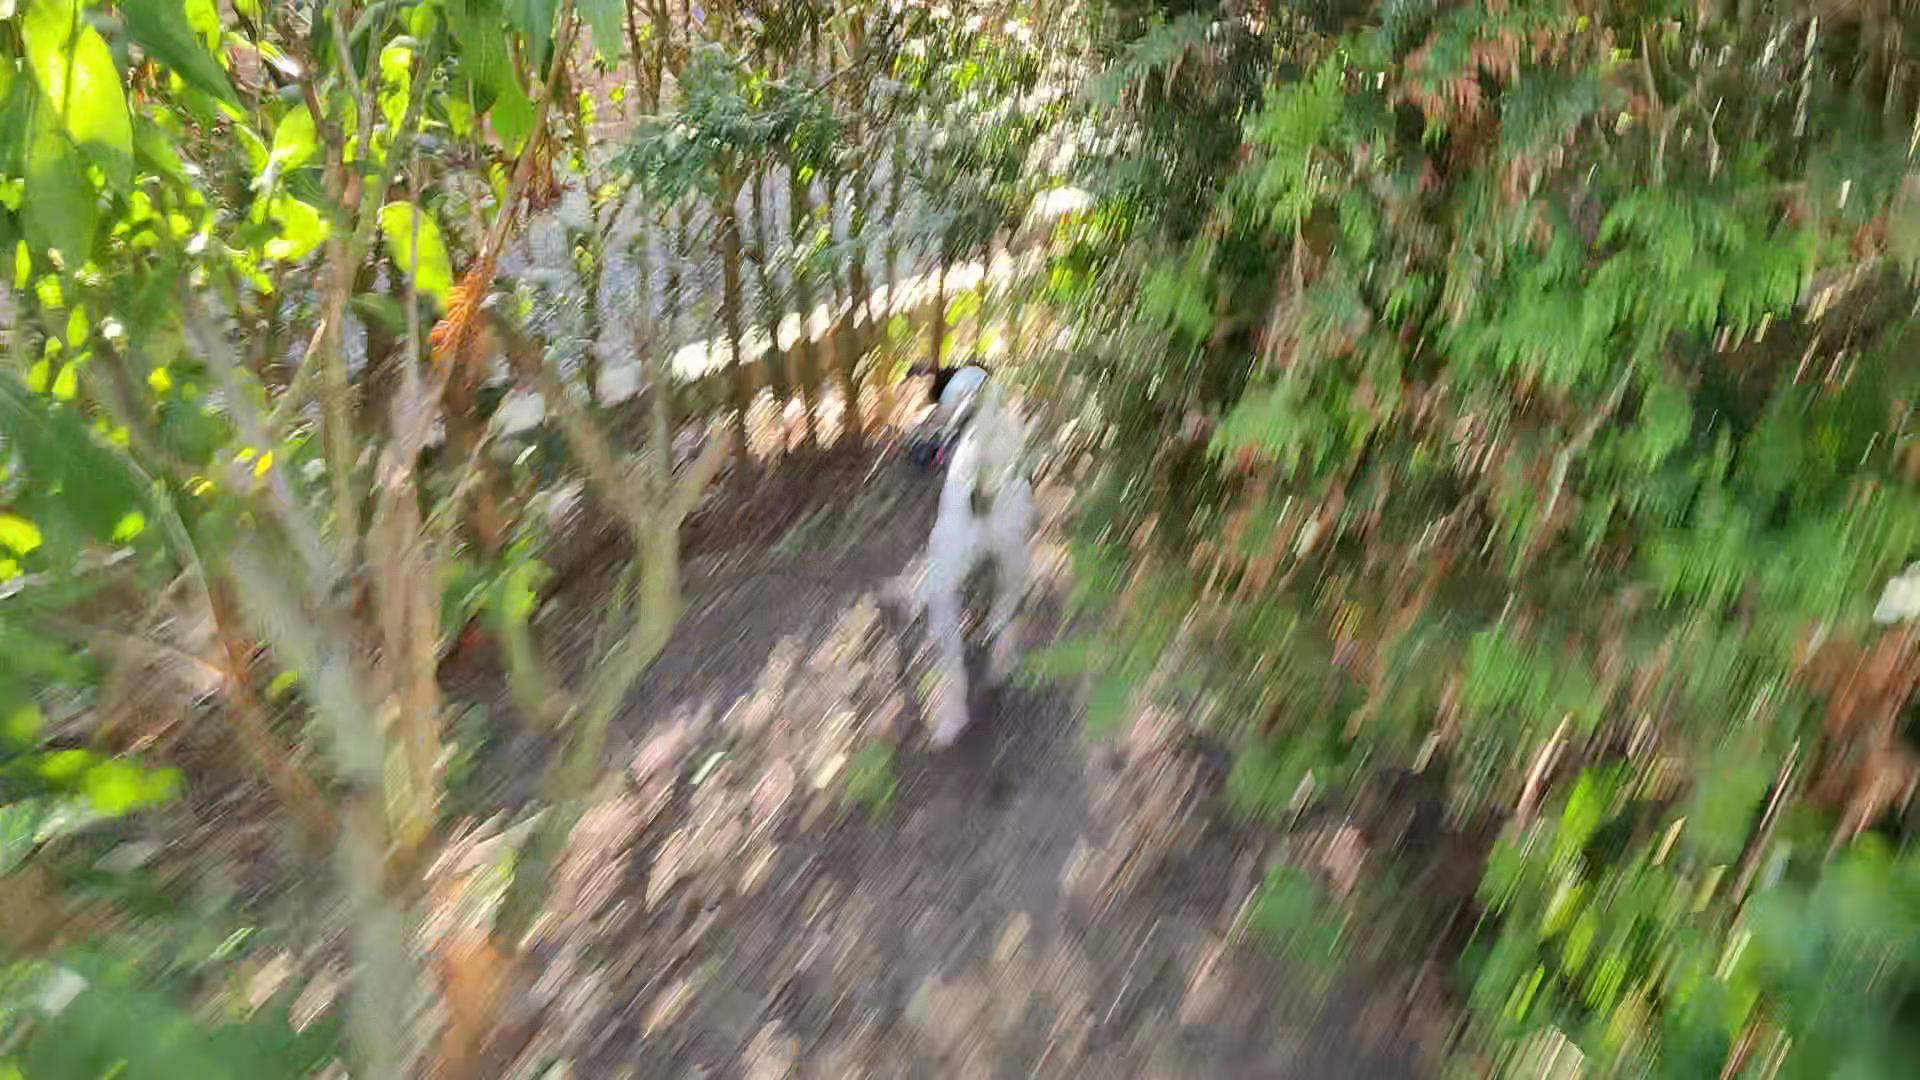Dog: (882, 324, 1054, 762)
